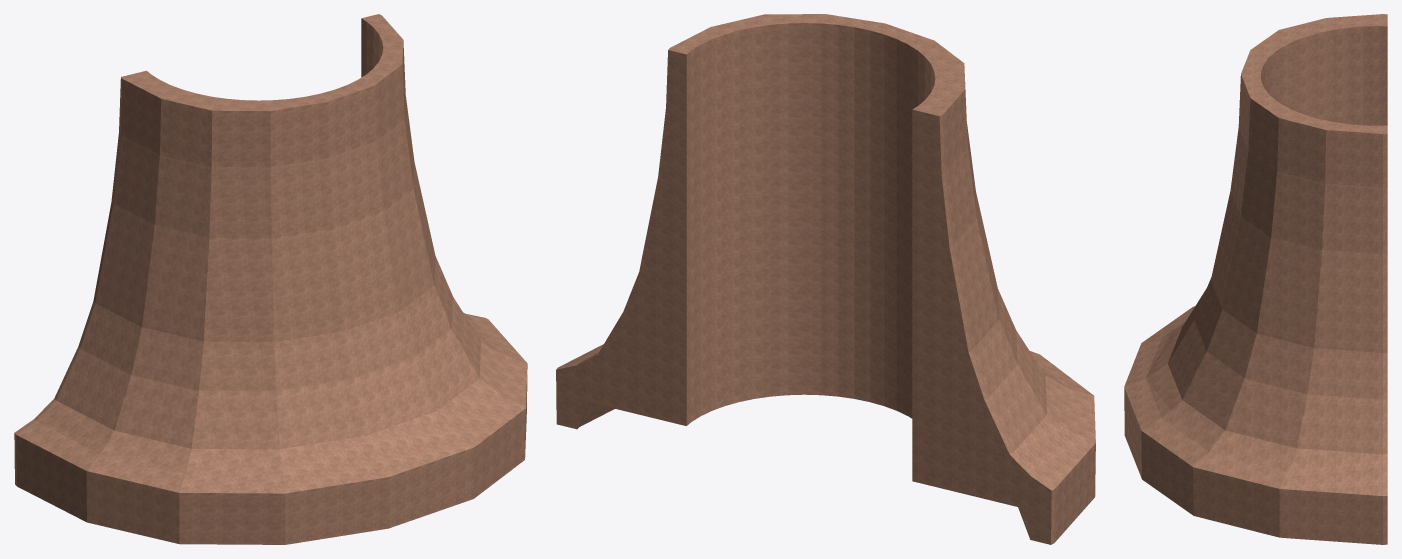
Rendered from Bell2.glb.
3 renders of one model, left to right at view 1: azimuth 30°, elevation 25°; view 2: azimuth 150°, elevation 25°; view 3: azimuth 270°, elevation 25°, orthographic. The views are drawn at different scales.
Visible parts, largest first — view 1: Mesh_Mesh_head_geo.001_lambert2SG.001; view 2: Mesh_Mesh_head_geo.001_lambert2SG.001; view 3: Mesh_Mesh_head_geo.001_lambert2SG.001.
Boxes of the visible parts, <box> form: Mesh_Mesh_head_geo.001_lambert2SG.001: <box>14,14,527,544</box>; Mesh_Mesh_head_geo.001_lambert2SG.001: <box>556,14,1095,544</box>; Mesh_Mesh_head_geo.001_lambert2SG.001: <box>1124,14,1387,544</box>.
Bounding box in the file's own units: 28.5 × 22 × 14.52.
Materials: 1 (1 with a texture image).
